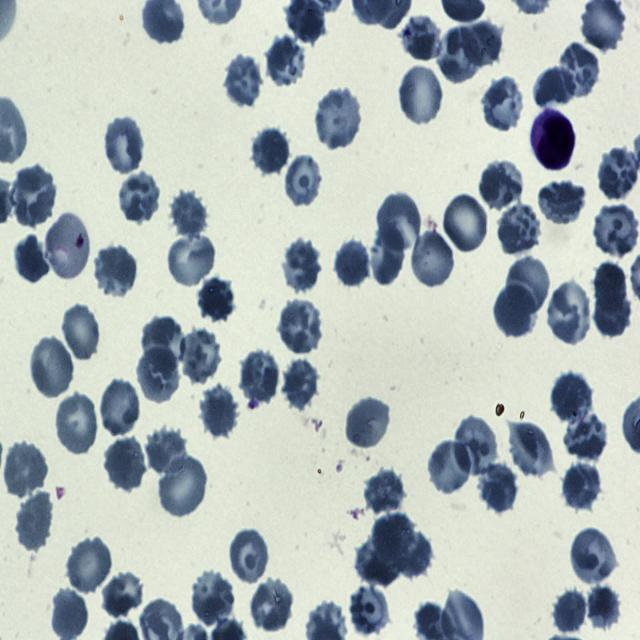leukocyte: (531, 109, 577, 172)
red blood cell: (158, 453, 209, 519), (44, 211, 91, 282), (546, 279, 594, 346), (53, 390, 99, 457), (314, 86, 362, 150), (29, 334, 76, 399), (10, 163, 58, 226), (442, 192, 490, 254), (452, 414, 500, 476), (398, 63, 445, 126), (166, 231, 218, 287), (3, 438, 50, 499), (377, 191, 423, 253), (409, 229, 456, 289), (569, 528, 617, 585), (437, 23, 481, 85), (506, 256, 550, 316), (508, 422, 554, 479), (98, 378, 142, 437), (345, 395, 392, 450), (66, 538, 112, 594), (249, 576, 294, 633), (227, 526, 271, 584), (428, 440, 473, 496), (557, 41, 602, 97), (594, 203, 639, 259), (61, 303, 101, 365), (480, 72, 522, 131), (137, 347, 181, 403), (117, 170, 161, 225), (94, 243, 138, 298), (538, 177, 588, 225), (282, 152, 324, 209), (179, 328, 223, 382), (348, 583, 392, 637), (105, 116, 144, 176), (15, 492, 54, 552), (596, 146, 639, 200), (494, 283, 536, 338), (104, 436, 146, 491), (279, 300, 321, 355), (550, 371, 592, 426), (480, 158, 523, 211), (563, 411, 609, 460), (458, 18, 504, 67), (496, 203, 540, 254), (282, 237, 322, 293), (191, 571, 234, 623), (143, 318, 184, 372), (372, 512, 416, 562), (368, 228, 404, 289), (240, 350, 279, 406), (266, 34, 306, 88), (146, 425, 187, 477), (362, 469, 406, 517), (223, 56, 264, 107), (200, 382, 237, 438), (99, 572, 144, 618), (592, 288, 631, 341), (251, 125, 291, 176), (195, 274, 235, 324), (592, 261, 628, 316), (478, 463, 518, 512), (399, 16, 442, 61), (284, 357, 320, 410), (14, 233, 52, 283), (168, 190, 208, 237), (358, 540, 398, 587), (563, 462, 602, 510), (394, 532, 433, 580), (334, 240, 370, 289), (586, 583, 622, 631), (535, 66, 576, 108), (552, 588, 588, 634)
